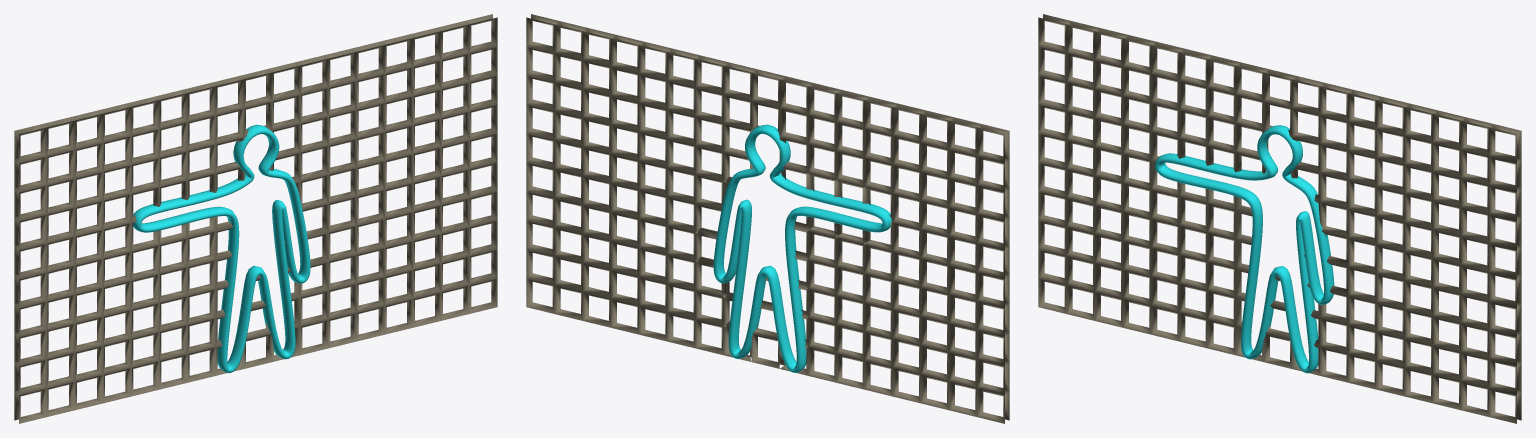
The model's file is [poo]_St2_Grid_31.fbx.
3 renders of one model, left to right at view 1: azimuth 30°, elevation 25°; view 2: azimuth 150°, elevation 25°; view 3: azimuth 330°, elevation 25°, orthographic.
Visible parts, largest first — view 1: Grid_31; view 2: Grid_31; view 3: Grid_31.
Boxes of the visible parts, bbox=[...] form: Grid_31: bbox=[14, 14, 497, 423]; Grid_31: bbox=[526, 14, 1009, 423]; Grid_31: bbox=[1038, 14, 1521, 423].
Size of the model in its own units: 1604 by 931 by 45.72.
